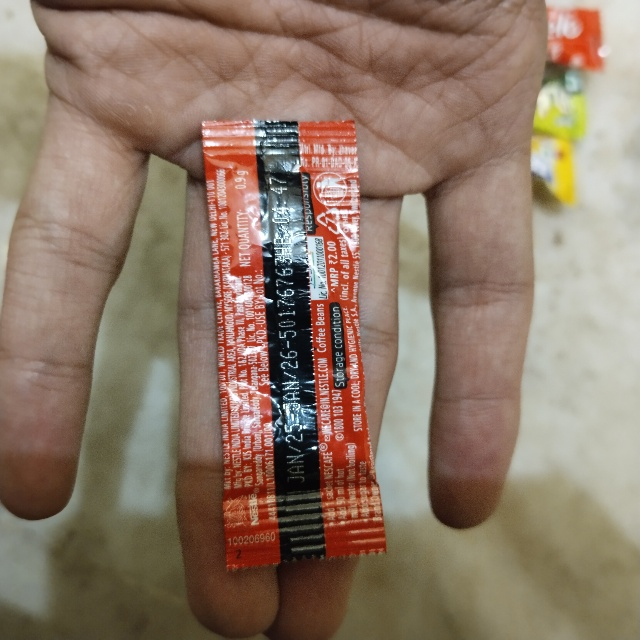Nescafe Coffee: (195, 122, 358, 570)
